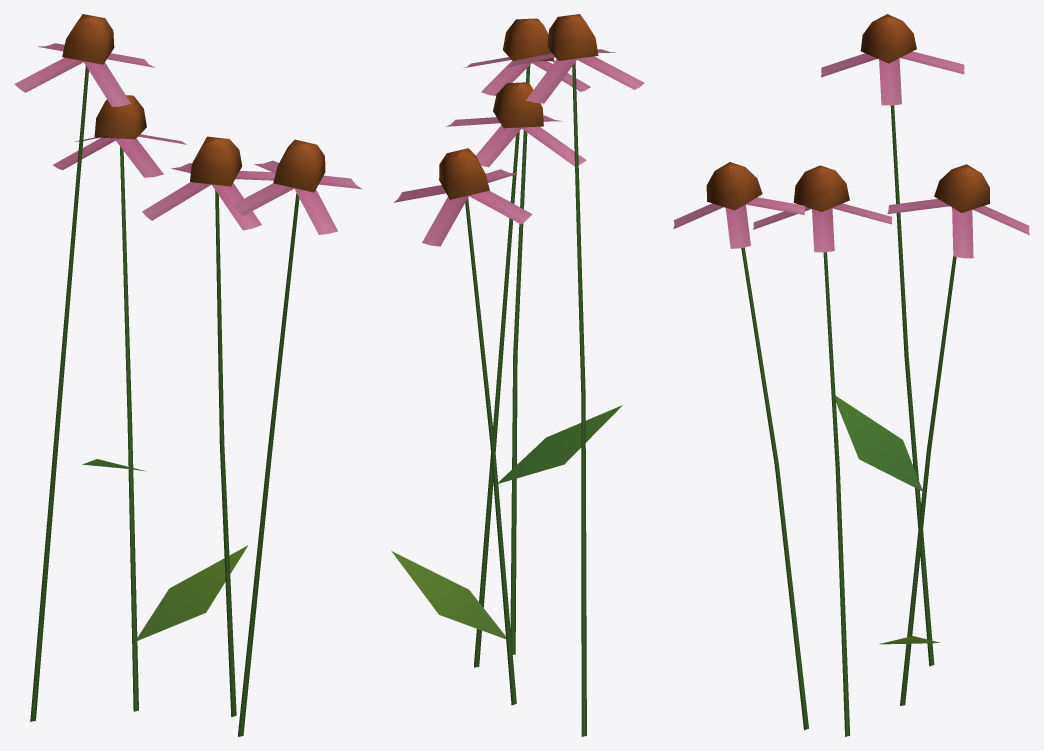
File: flower-coneflower-b.lod2.glb
3 renders of one model, left to right at view 1: azimuth 30°, elevation 25°; view 2: azimuth 150°, elevation 25°; view 3: azimuth 270°, elevation 25°, orthographic. The views are drawn at different scales.
Parts seen in each view (by area): view 1: flower-coneflower-b.lod2; view 2: flower-coneflower-b.lod2; view 3: flower-coneflower-b.lod2.
Boxes of the visible parts, box(x1,y1,x2,y2) form: flower-coneflower-b.lod2: box(14, 14, 361, 736); flower-coneflower-b.lod2: box(391, 14, 644, 736); flower-coneflower-b.lod2: box(673, 14, 1029, 736).
Bounding box in the file's own units: 0.2276 × 0.6005 × 0.2924.
